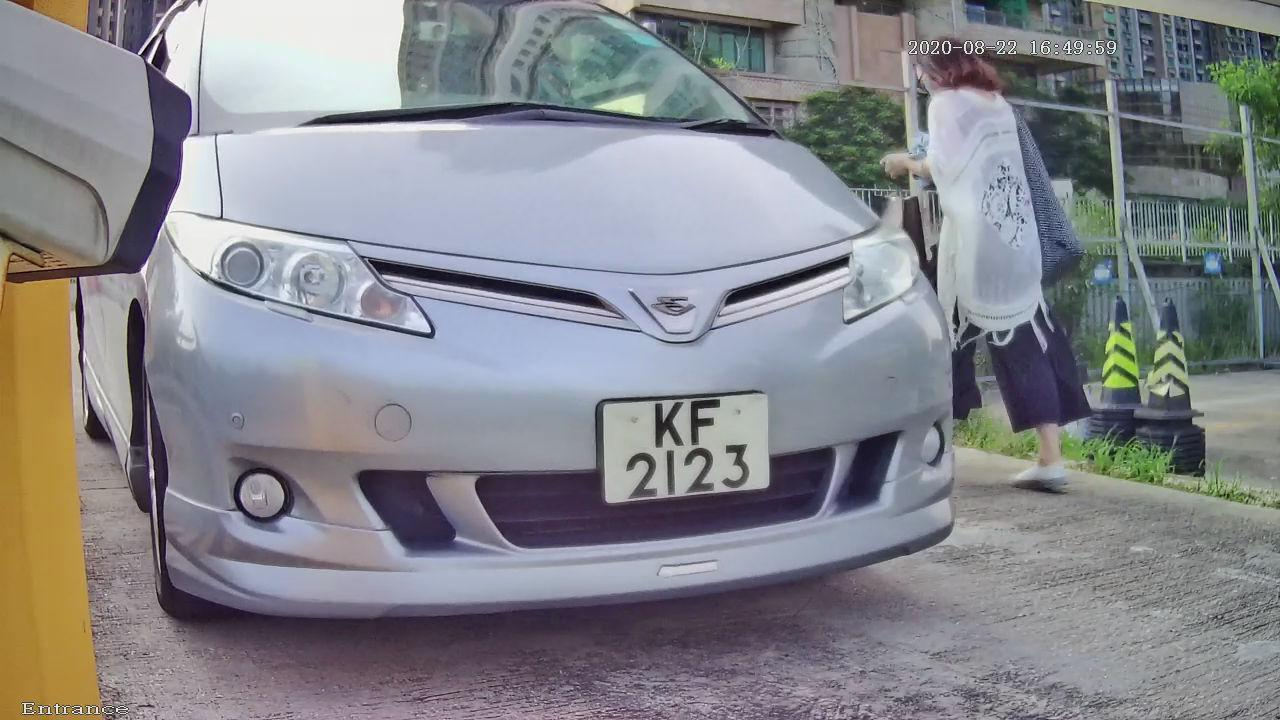Car: (86, 4, 1029, 666)
License Plate: (583, 377, 783, 515)
